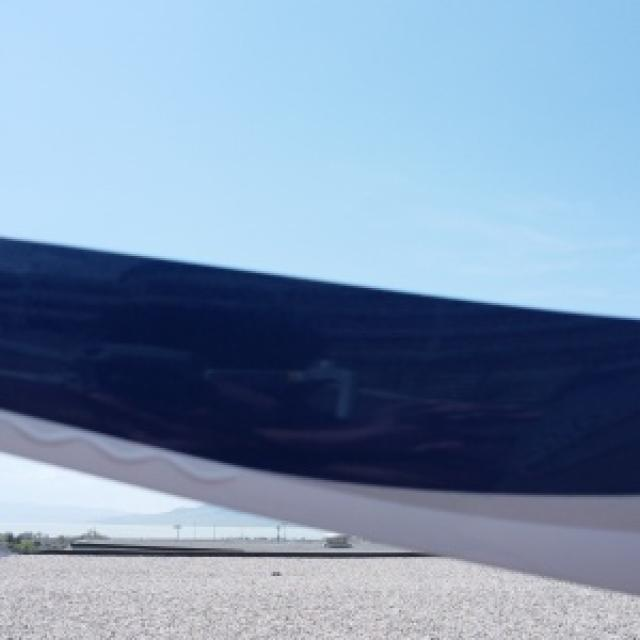healthy: (0, 237, 638, 593)
